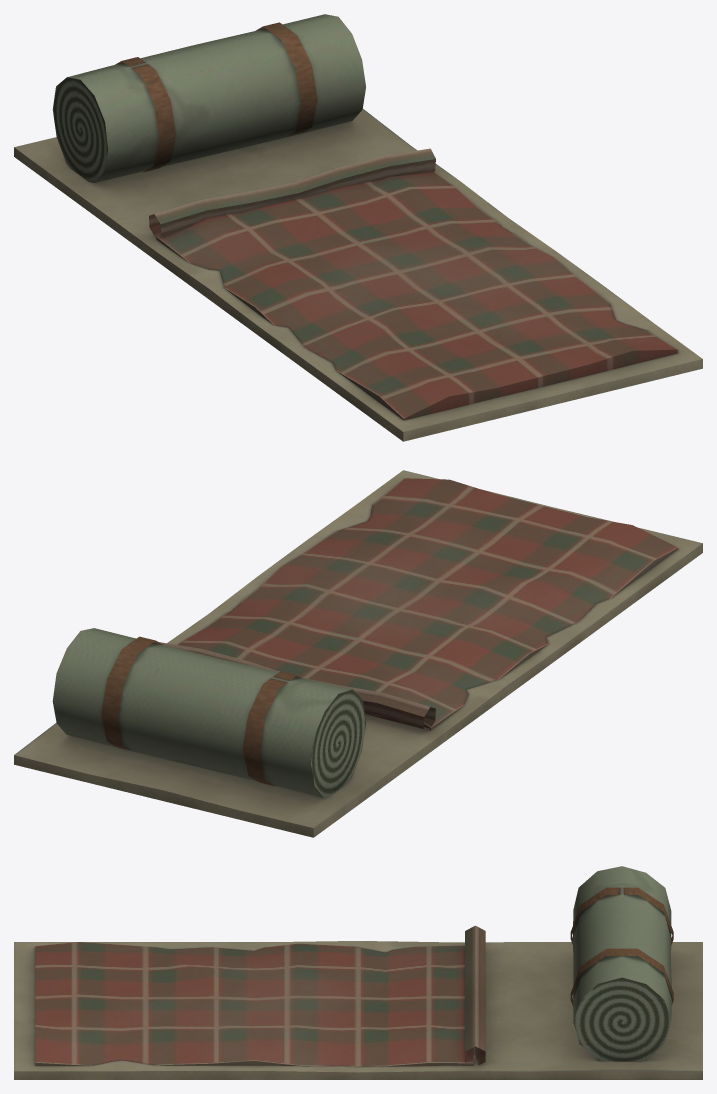
Rendered from fm_bedroll.glb.
3 views of the same model, one above another, from view 1: azimuth 30°, elevation 25°; view 2: azimuth 150°, elevation 25°; view 3: azimuth 270°, elevation 25° (orthographic). The views are drawn at different scales.
Parts seen in each view (by area): view 1: fm_bedroll; view 2: fm_bedroll; view 3: fm_bedroll.
Boxes of the visible parts, box(x1,y1,x2,y2) form: fm_bedroll: box(14, 14, 702, 441); fm_bedroll: box(14, 470, 702, 837); fm_bedroll: box(14, 866, 702, 1079).
Size of the model in its own units: 0.72 by 0.2433 by 1.62.
1 material, 1 textured.
